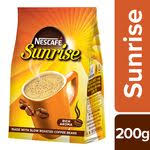nescafe-classic/gold-med: (8, 5, 105, 140)
